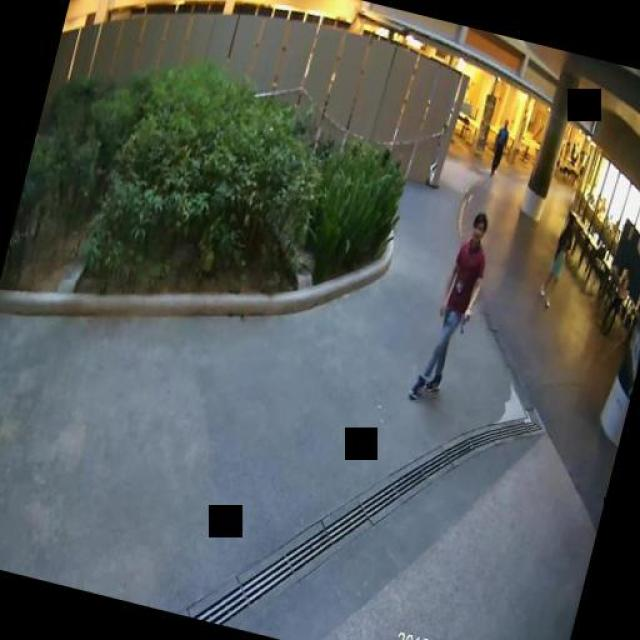gun: (457, 309, 472, 331)
